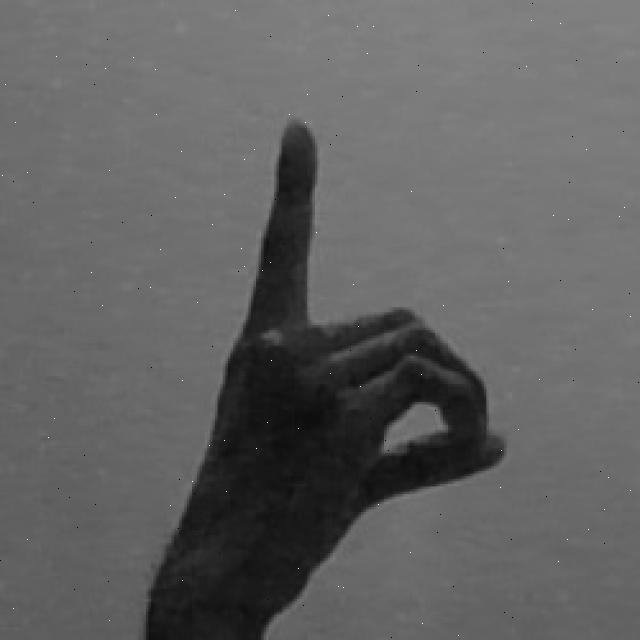D: (138, 115, 507, 640)
